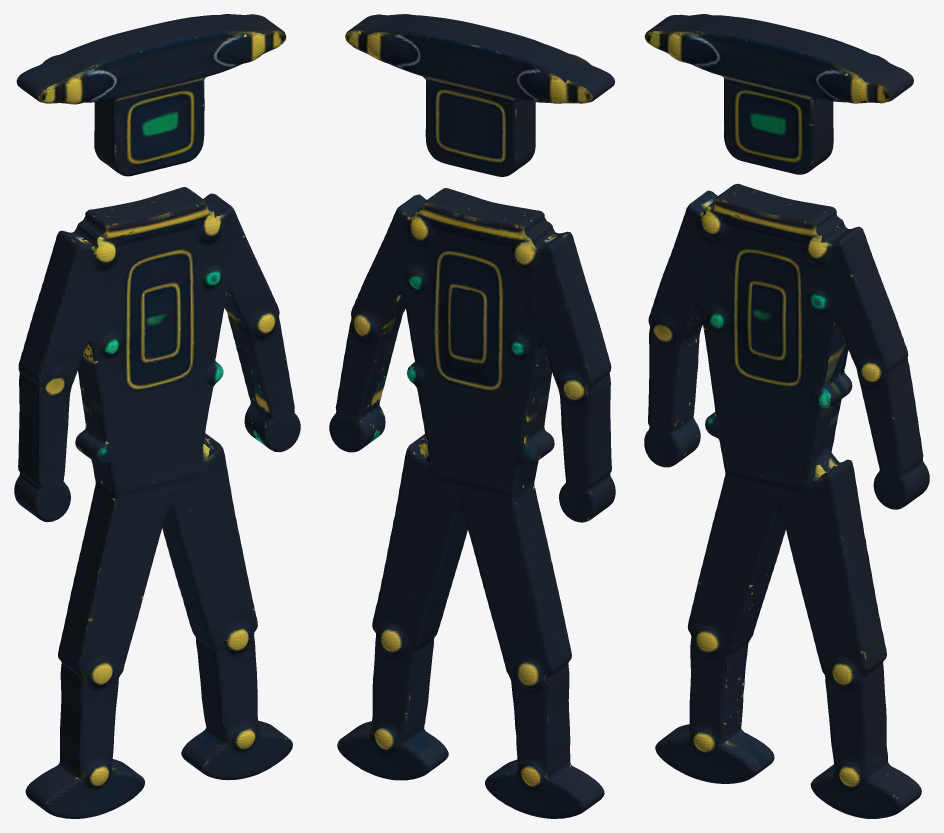
Rendered from gen-zola-v3-34view.glb.
3 renders of one model, left to right at view 1: azimuth 30°, elevation 25°; view 2: azimuth 150°, elevation 25°; view 3: azimuth 330°, elevation 25°, orthographic.
Parts seen in each view (by area): view 1: geometry_0; view 2: geometry_0; view 3: geometry_0.
Boxes of the visible parts, box(x1,y1,x2,y2) form: geometry_0: box(14, 14, 300, 818); geometry_0: box(329, 14, 615, 818); geometry_0: box(644, 14, 929, 818).
Bounding box in the file's own units: 0.7235 × 1.96 × 0.1405.
1 material, 1 textured.
